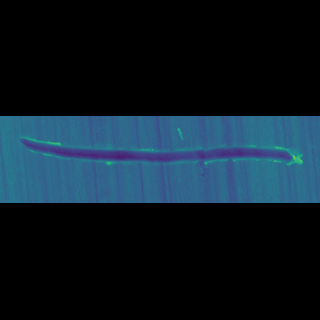Loch: (16, 153, 306, 163), (175, 151, 188, 155)
